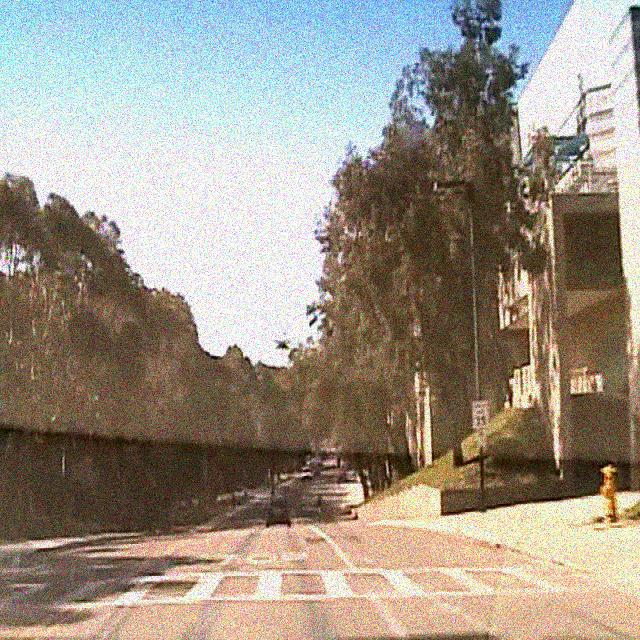speedLimit35: (471, 399, 489, 429)
